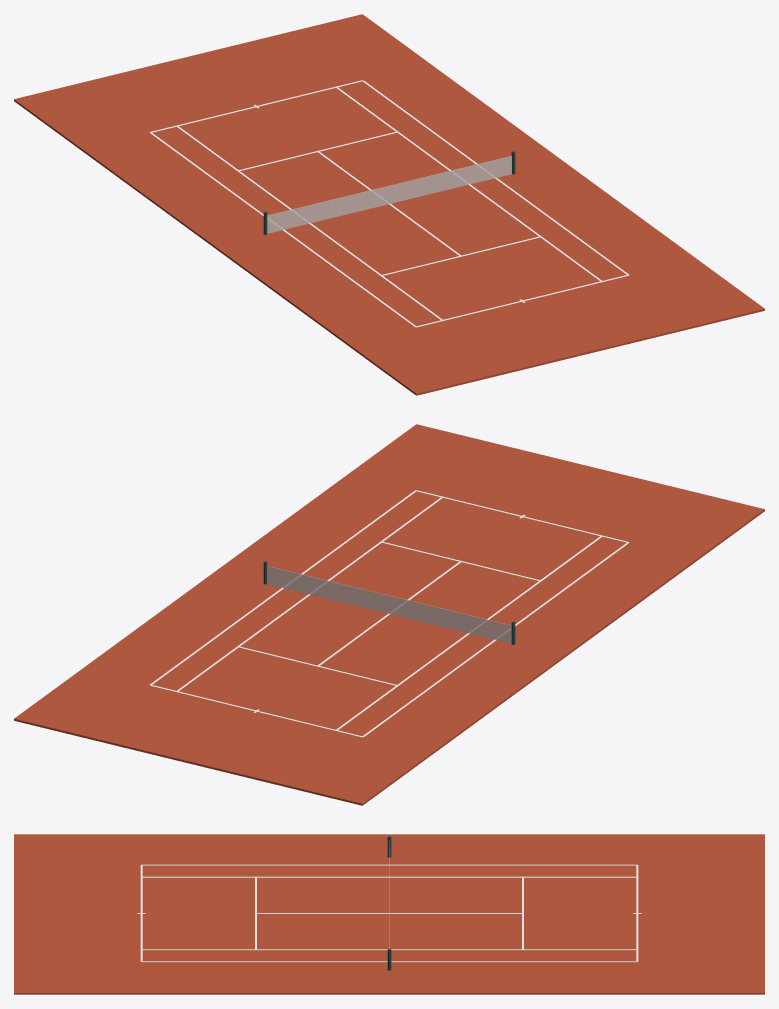
The model's file is quadra_tenis_saibro.glb.
3 renders of one model, top to bottom at view 1: azimuth 30°, elevation 25°; view 2: azimuth 150°, elevation 25°; view 3: azimuth 270°, elevation 25°, orthographic. The views are drawn at different scales.
Bounding box in the file's own units: 18 × 1.17 × 36.
